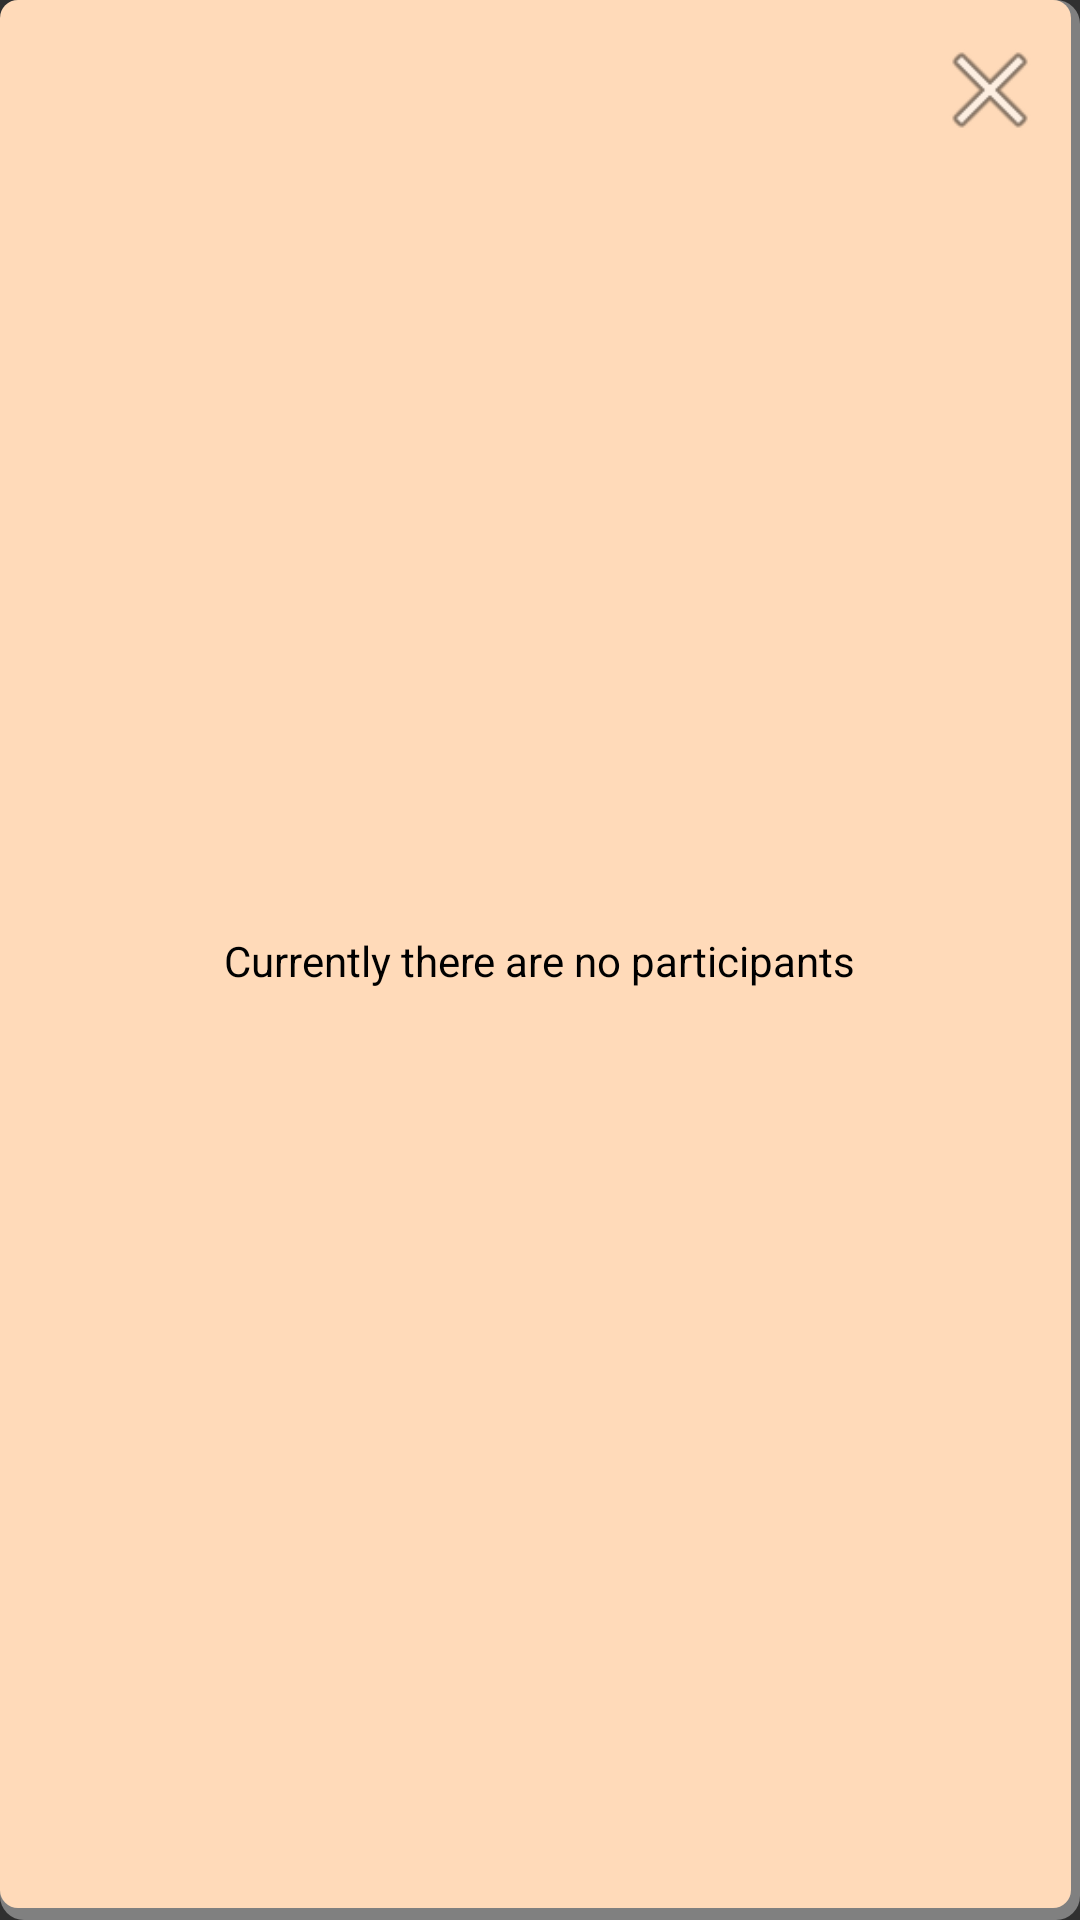

Named icons in this screenshot (1080px x 1920px) and their centers, (x,y):
close clear cancel: (990,90)
